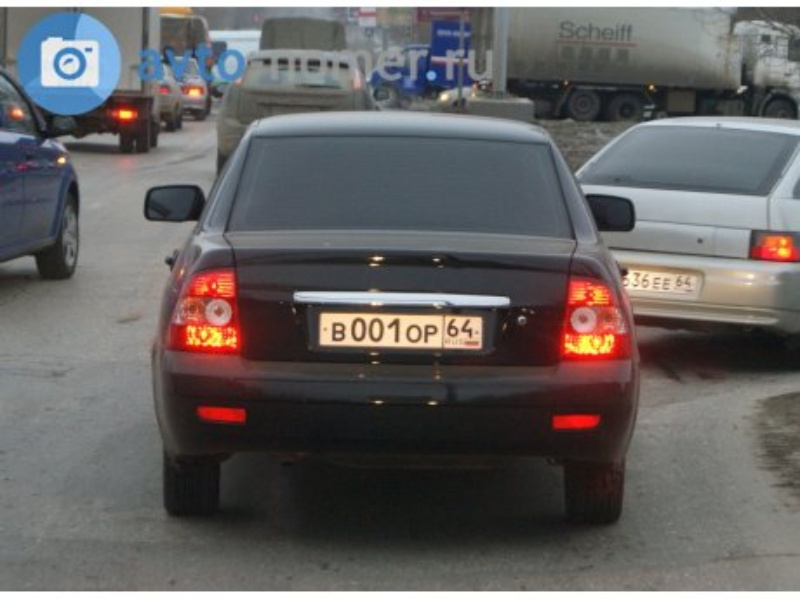car: (144, 108, 640, 523), (573, 116, 800, 338), (469, 5, 800, 119), (1, 8, 161, 150), (216, 49, 372, 173), (1, 68, 81, 279), (365, 19, 471, 101), (165, 57, 208, 120)
plate: (319, 312, 482, 351), (624, 268, 699, 296)
